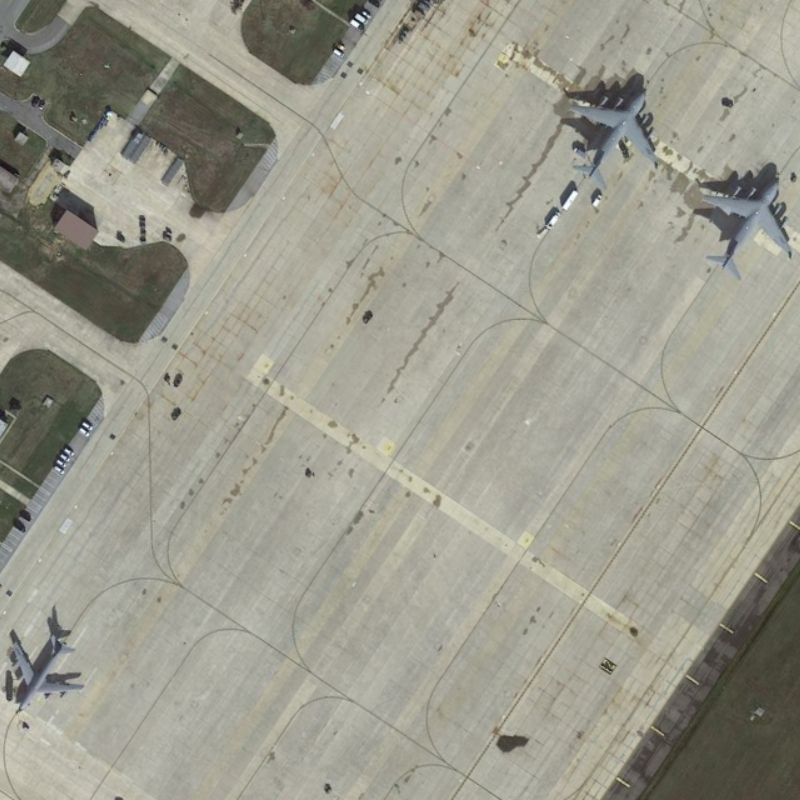A14: (4, 620, 92, 720)
A3: (694, 166, 796, 288), (563, 83, 662, 194)
